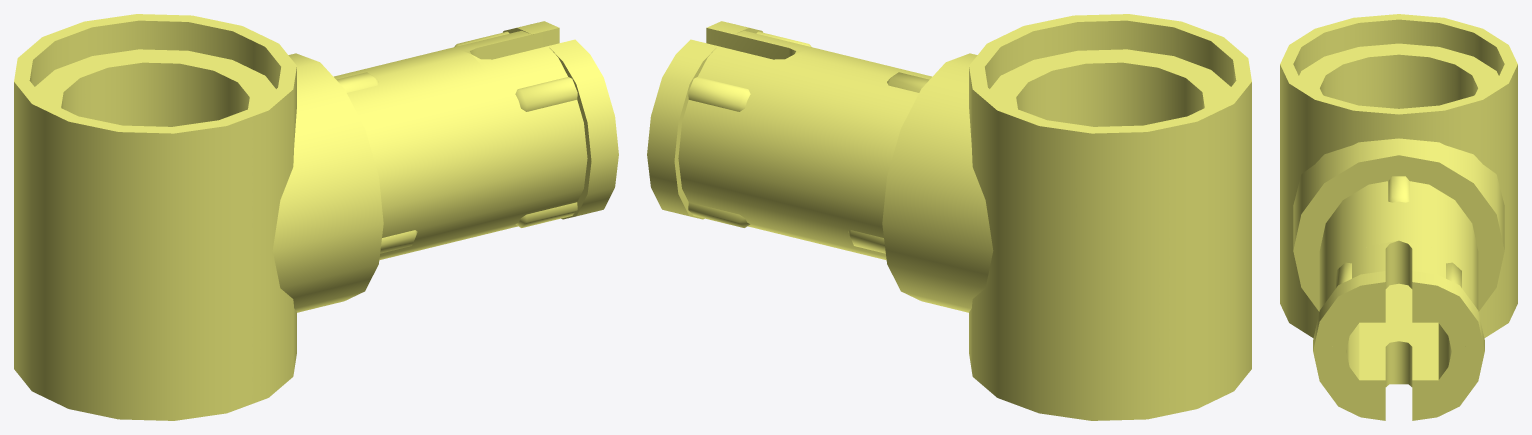
The picture shows the model from 3 angles, left to right: view 1: azimuth 30°, elevation 25°; view 2: azimuth 150°, elevation 25°; view 3: azimuth 270°, elevation 25°; orthographic projection. The views are drawn at different scales.
Parts seen in each view (by area): view 1: 65487.dat; view 2: 65487.dat; view 3: 65487.dat.
Part boxes in pixels (left/top/right/bottom): 65487.dat: left=14, top=14, right=618, bottom=420; 65487.dat: left=647, top=14, right=1251, bottom=420; 65487.dat: left=1280, top=14, right=1517, bottom=420.
Bounding box in the file's own units: 0.0156 × 0.008 × 0.0072.
